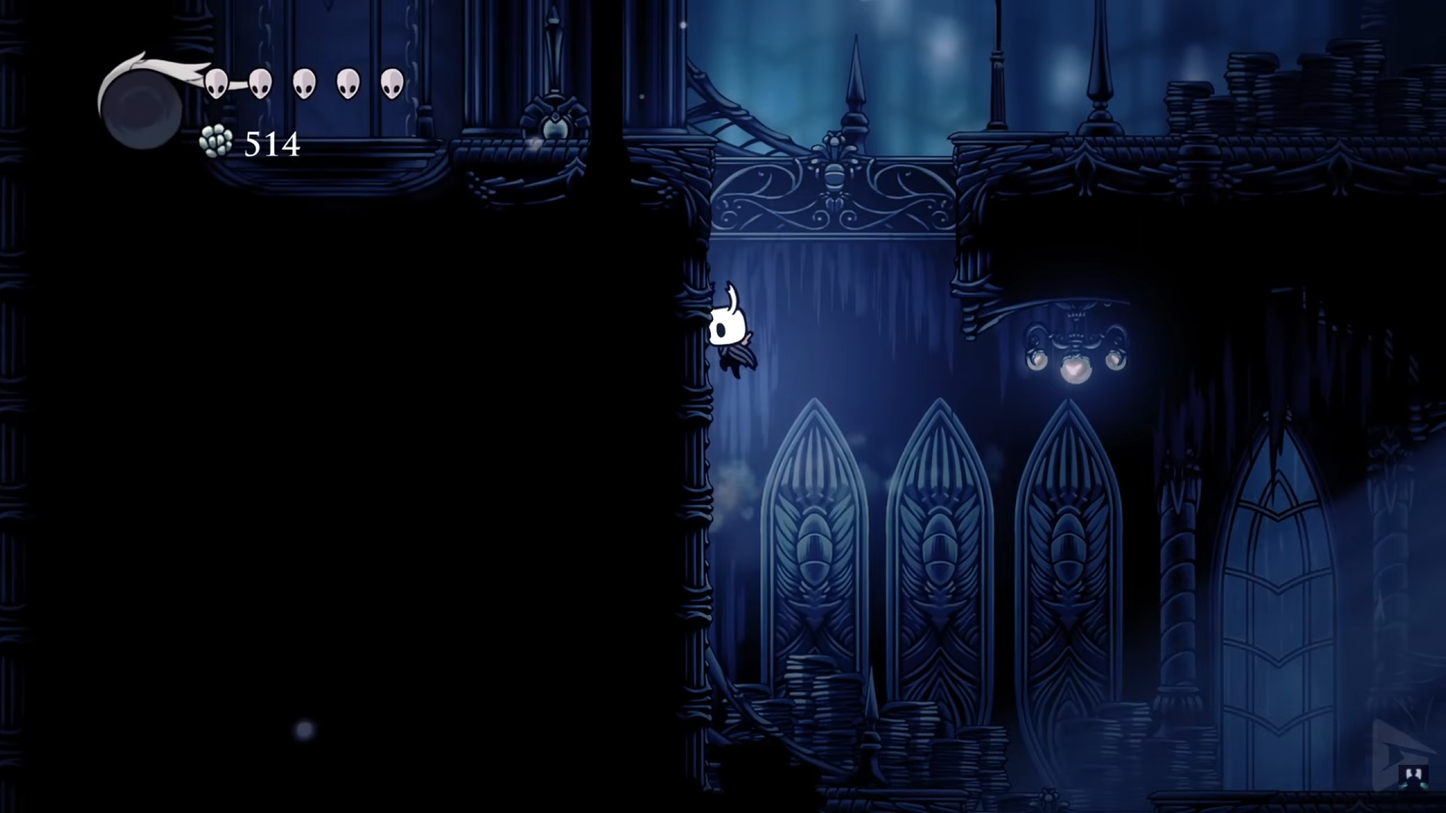HK: (702, 278, 759, 385)
